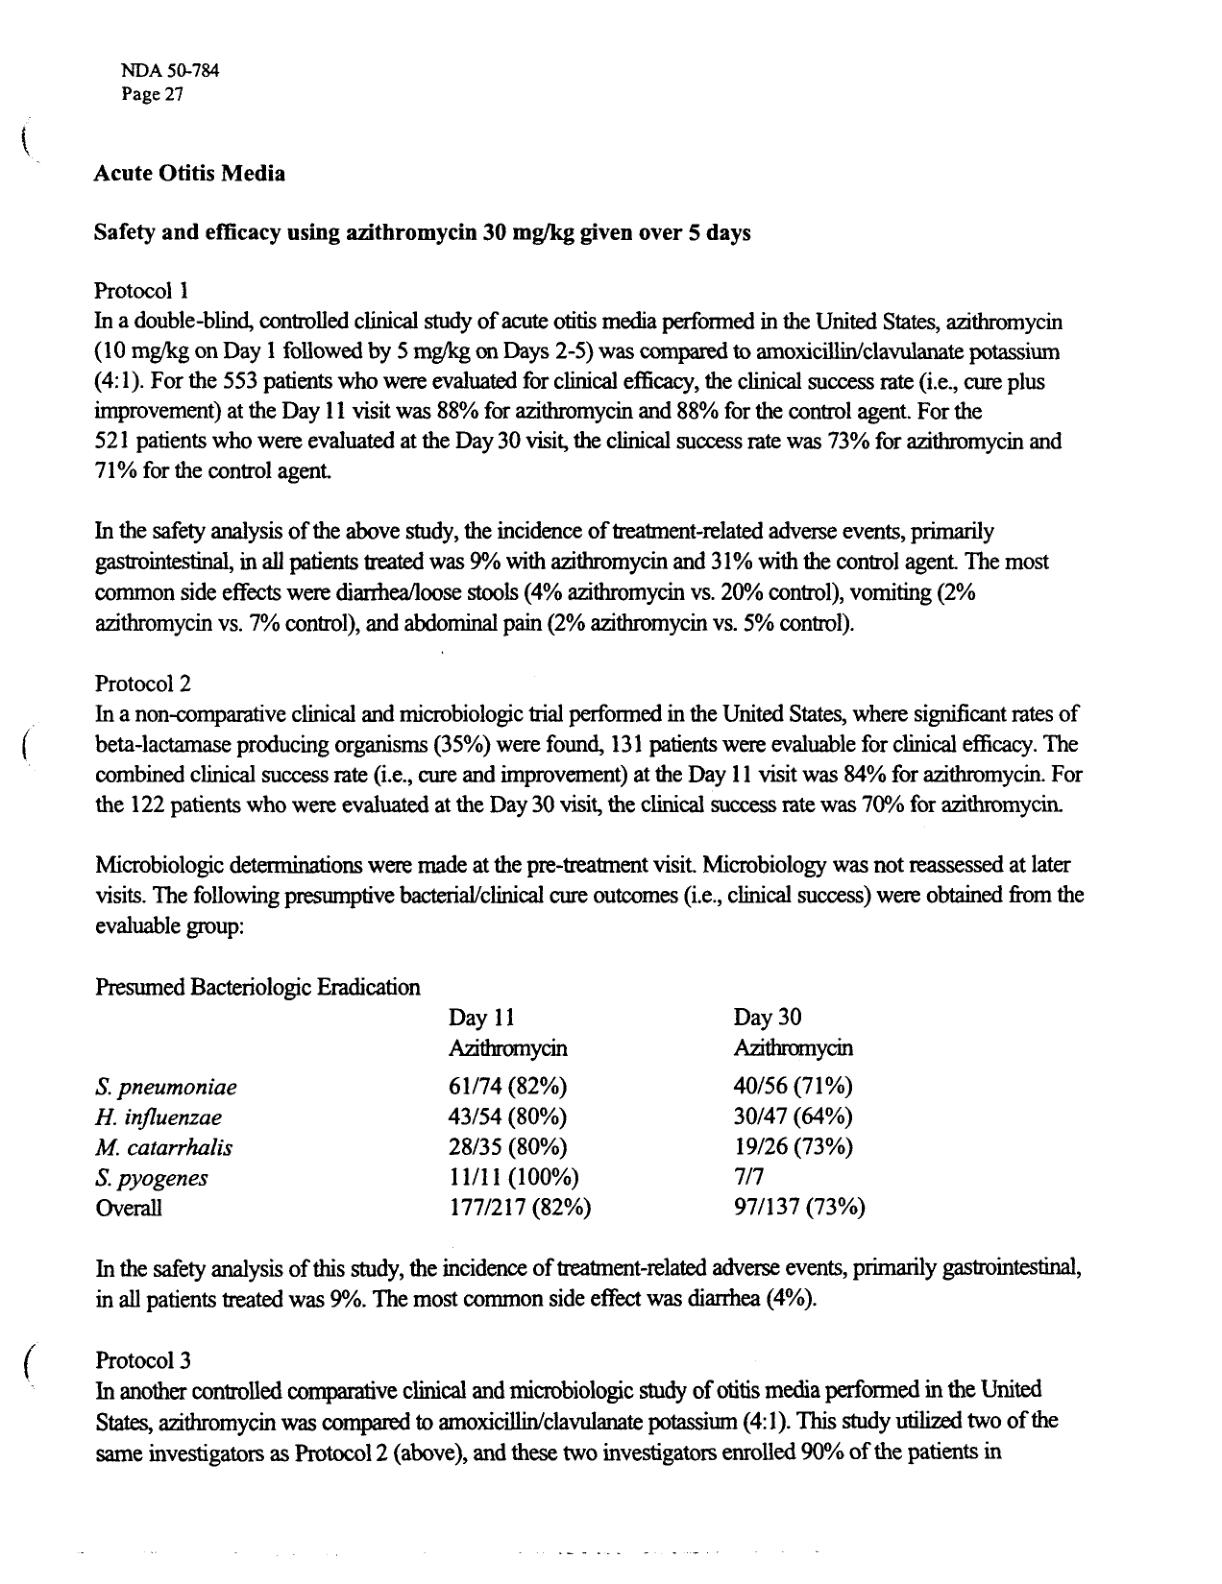nolines: (91, 1003, 866, 1221)
